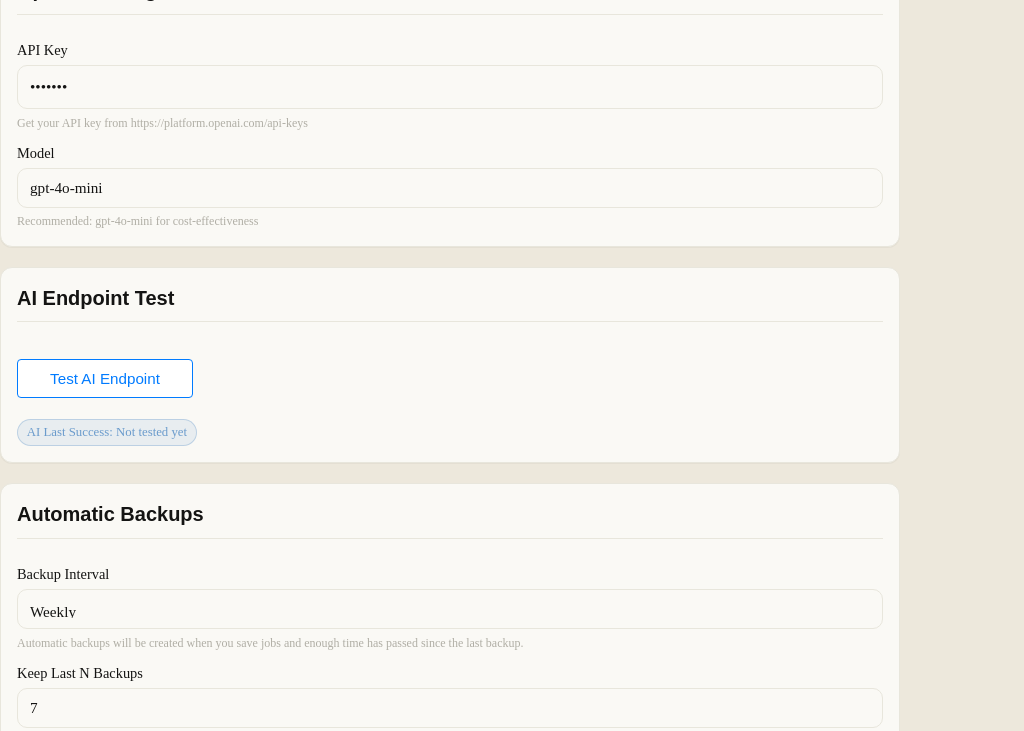
Scenario: SettingsView › runs AI endpoint test action
(page scrolled)
Click the button "Test AI Endpoint" at x=105, y=379, box [17, 359, 193, 398]
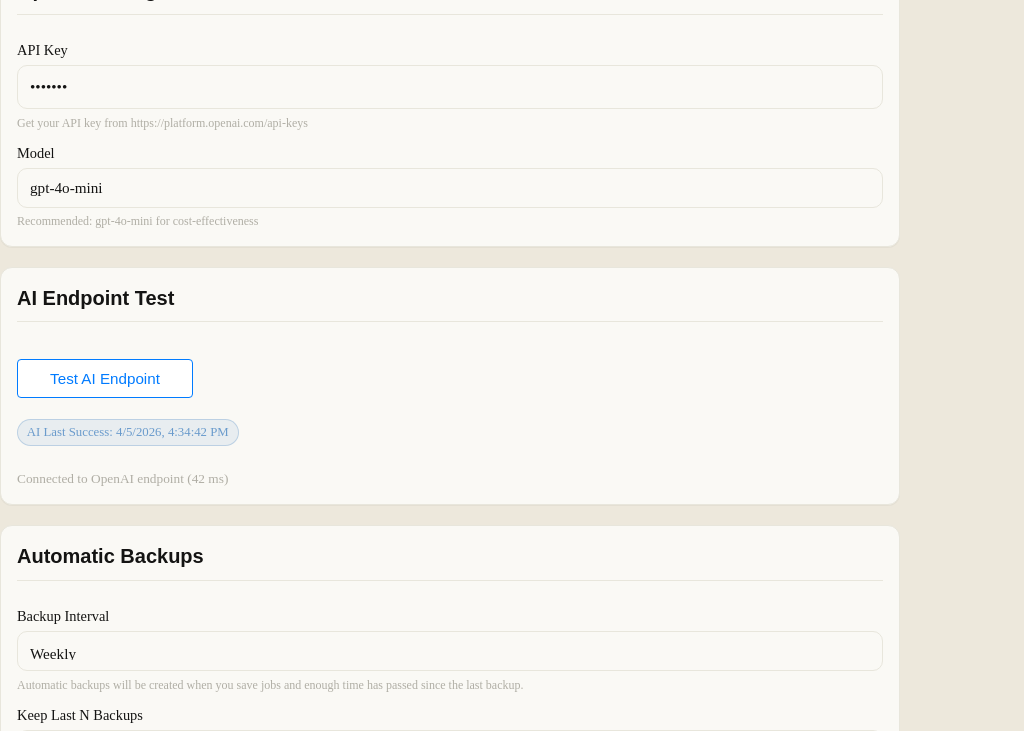
Expected: the text "Connected to OpenAI endpoint (42 ms)" is shown, [17, 471, 228, 486]
